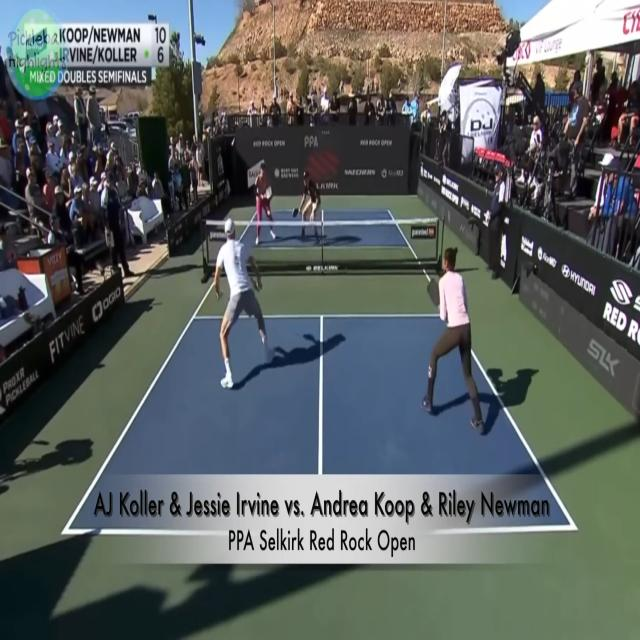ball: (266, 207, 271, 217)
